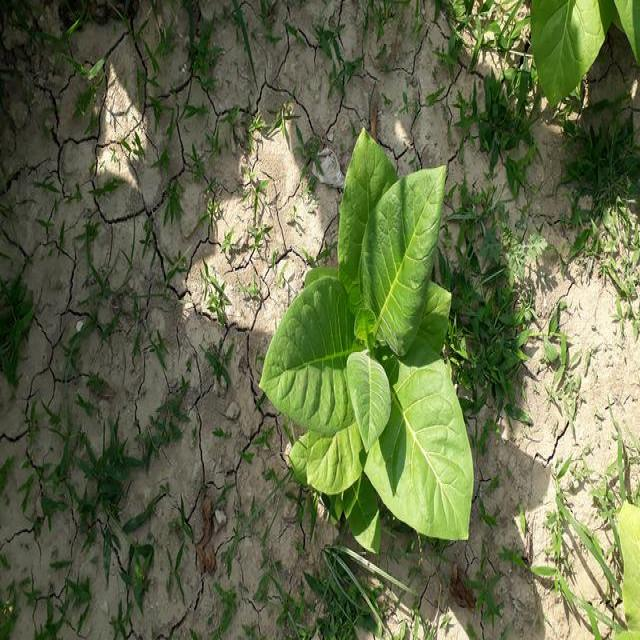crop: (254, 128, 473, 554), (525, 2, 640, 94), (621, 513, 639, 640)
